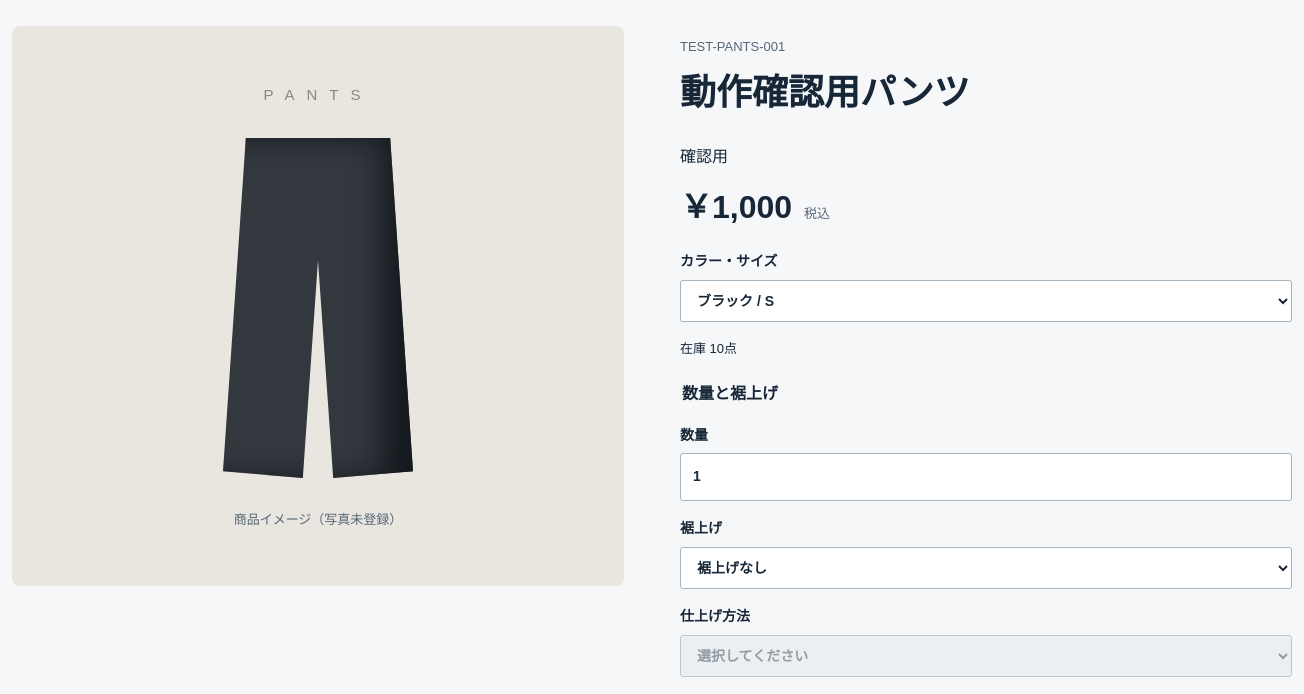
Test: UT-WEB-004 SELECTED 選択と整合するJSONをカートAPIへ送る
This screenshot has width=1304, height=694.
Expected: the heading "動作確認用パンツ" is shown, left=680, top=72, right=970, bottom=114
Select "裾上げあり" in the dropdown labelled "裾上げ" at (986, 568), box left=680, top=547, right=1292, bottom=589
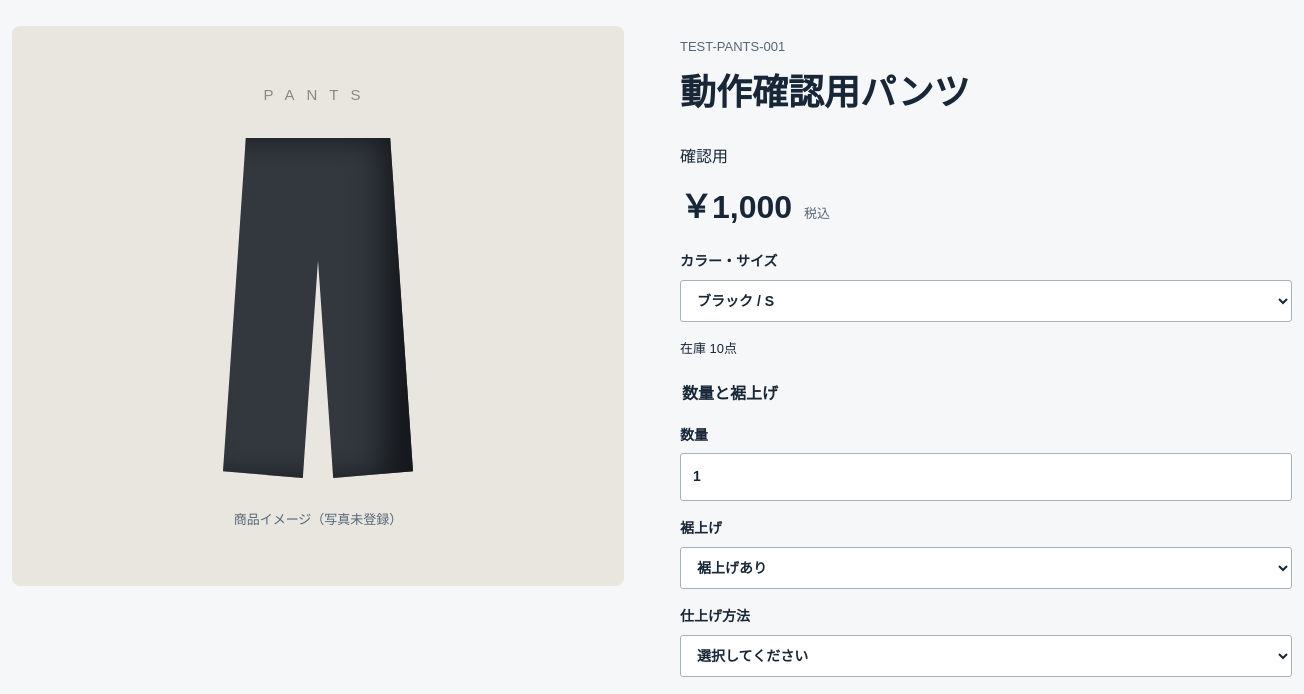
Select "ミシン仕上げ（￥300 / 点）" in the dropdown labelled "仕上げ方法" at (986, 656), box left=680, top=635, right=1292, bottom=677
(page scrolled)
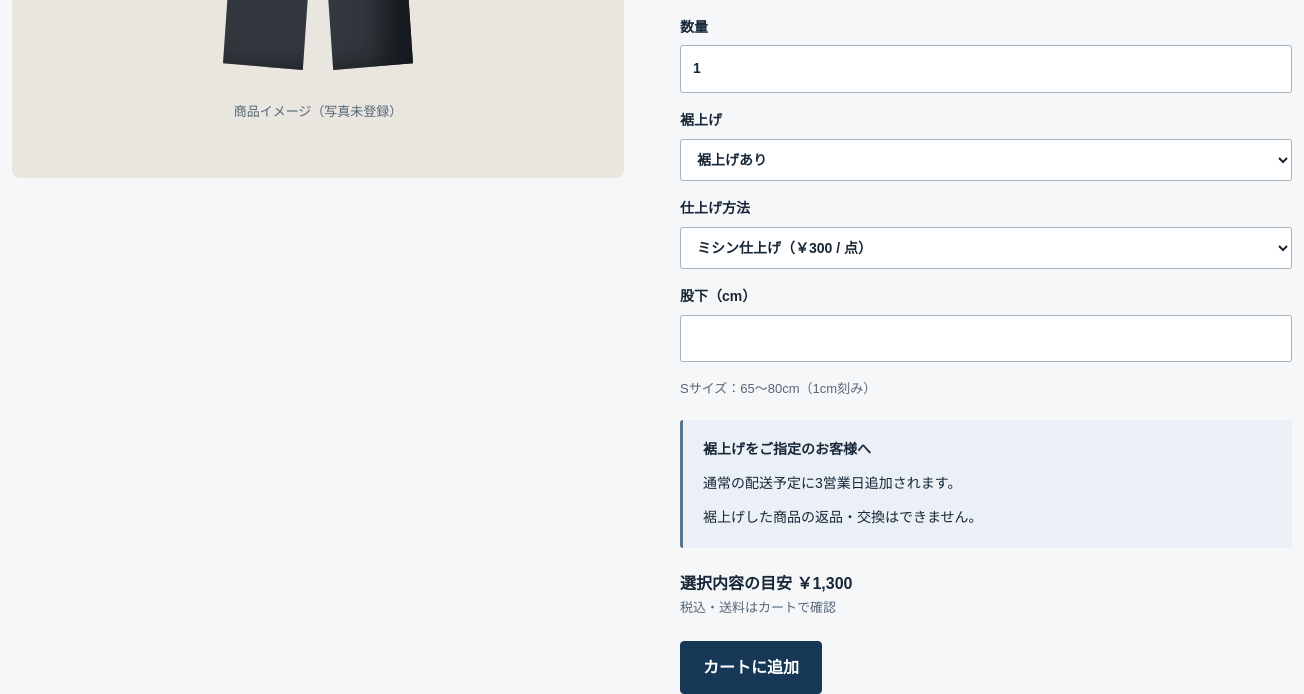
Type "74" into the number field labelled "股下（cm）" at (986, 338), box left=680, top=314, right=1292, bottom=362
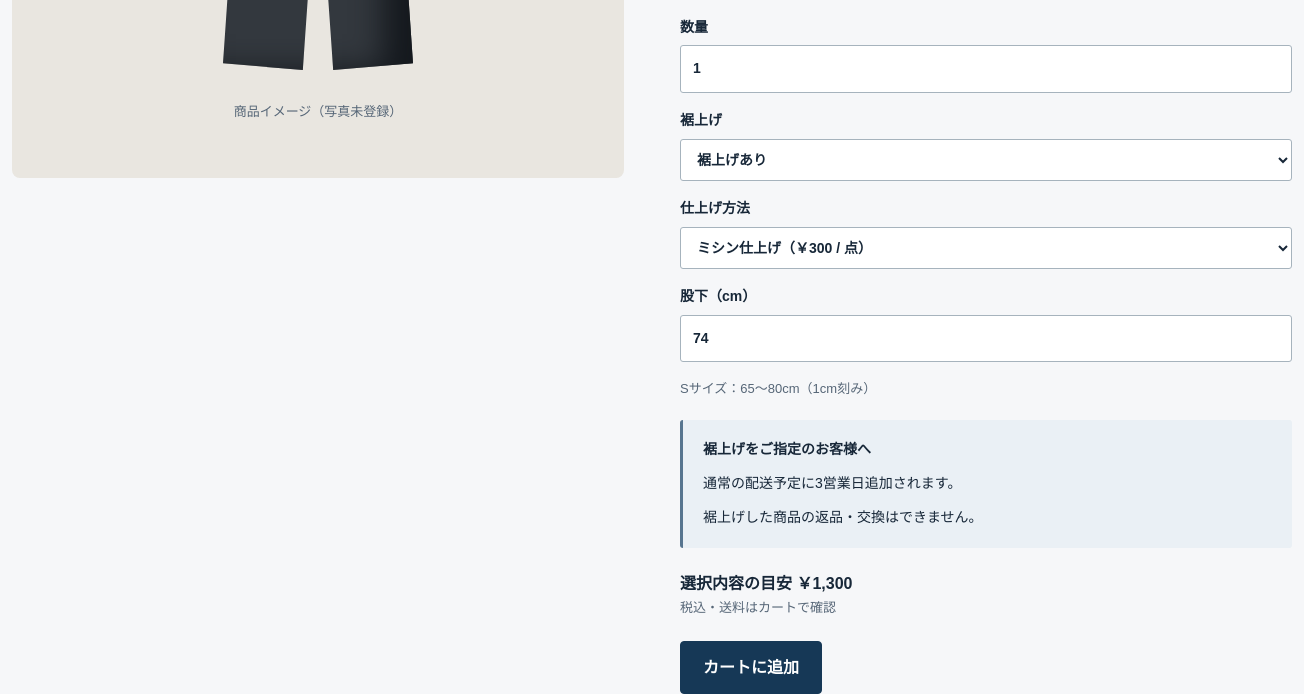
Click the button "カートに追加" at (751, 668), box left=680, top=641, right=822, bottom=693
(page scrolled)
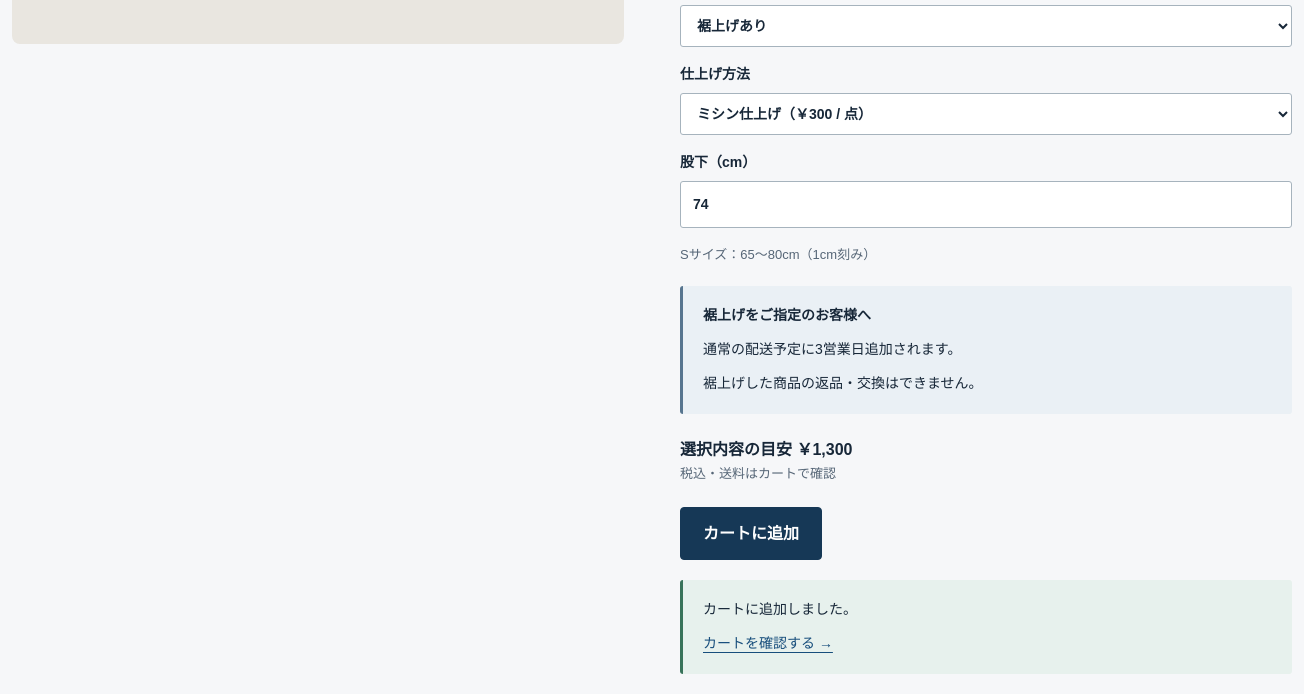
Expected: the text "カートに追加しました。" is shown, left=703, top=601, right=857, bottom=617
